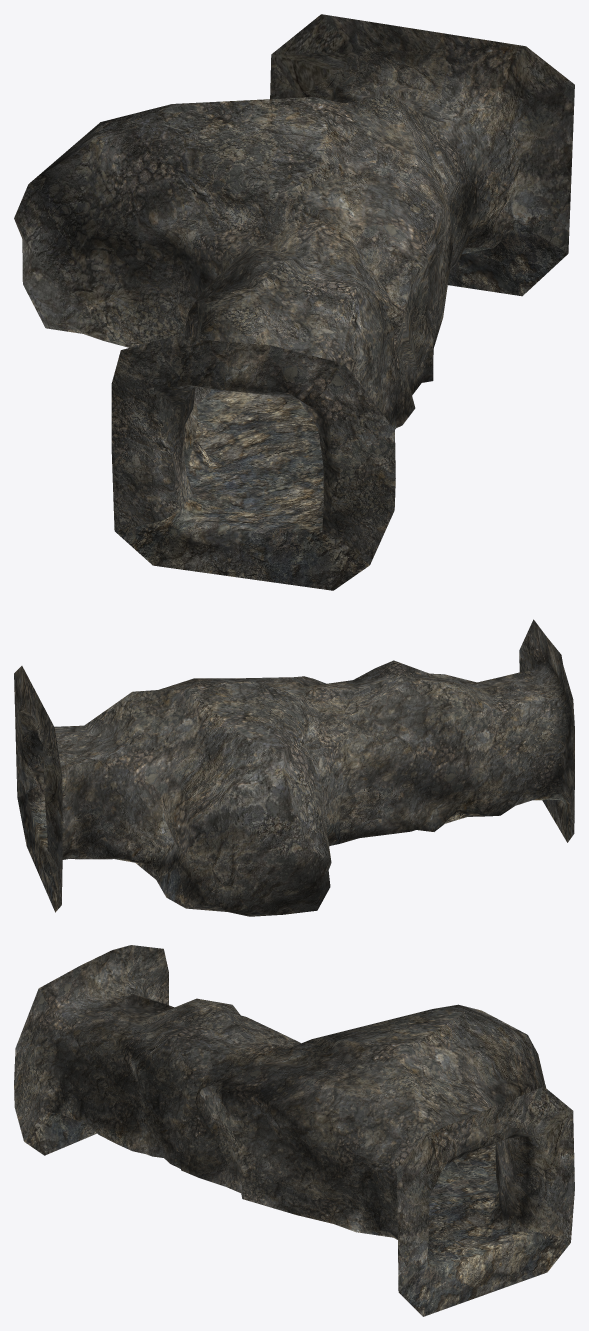
Rendered from Cave24.fbx.
The picture shows the model from 3 angles, top to bottom: view 1: azimuth 30°, elevation 25°; view 2: azimuth 150°, elevation 25°; view 3: azimuth 270°, elevation 25°; orthographic projection. The views are drawn at different scales.
Parts seen in each view (by area): view 1: Cave24; view 2: Cave24; view 3: Cave24.
Part boxes in pixels (box(x1,y1,x2,y2)): Cave24: box(14, 14, 574, 590); Cave24: box(14, 619, 574, 916); Cave24: box(14, 945, 574, 1316).
Bounding box in the file's own units: 159 × 63.67 × 168.
